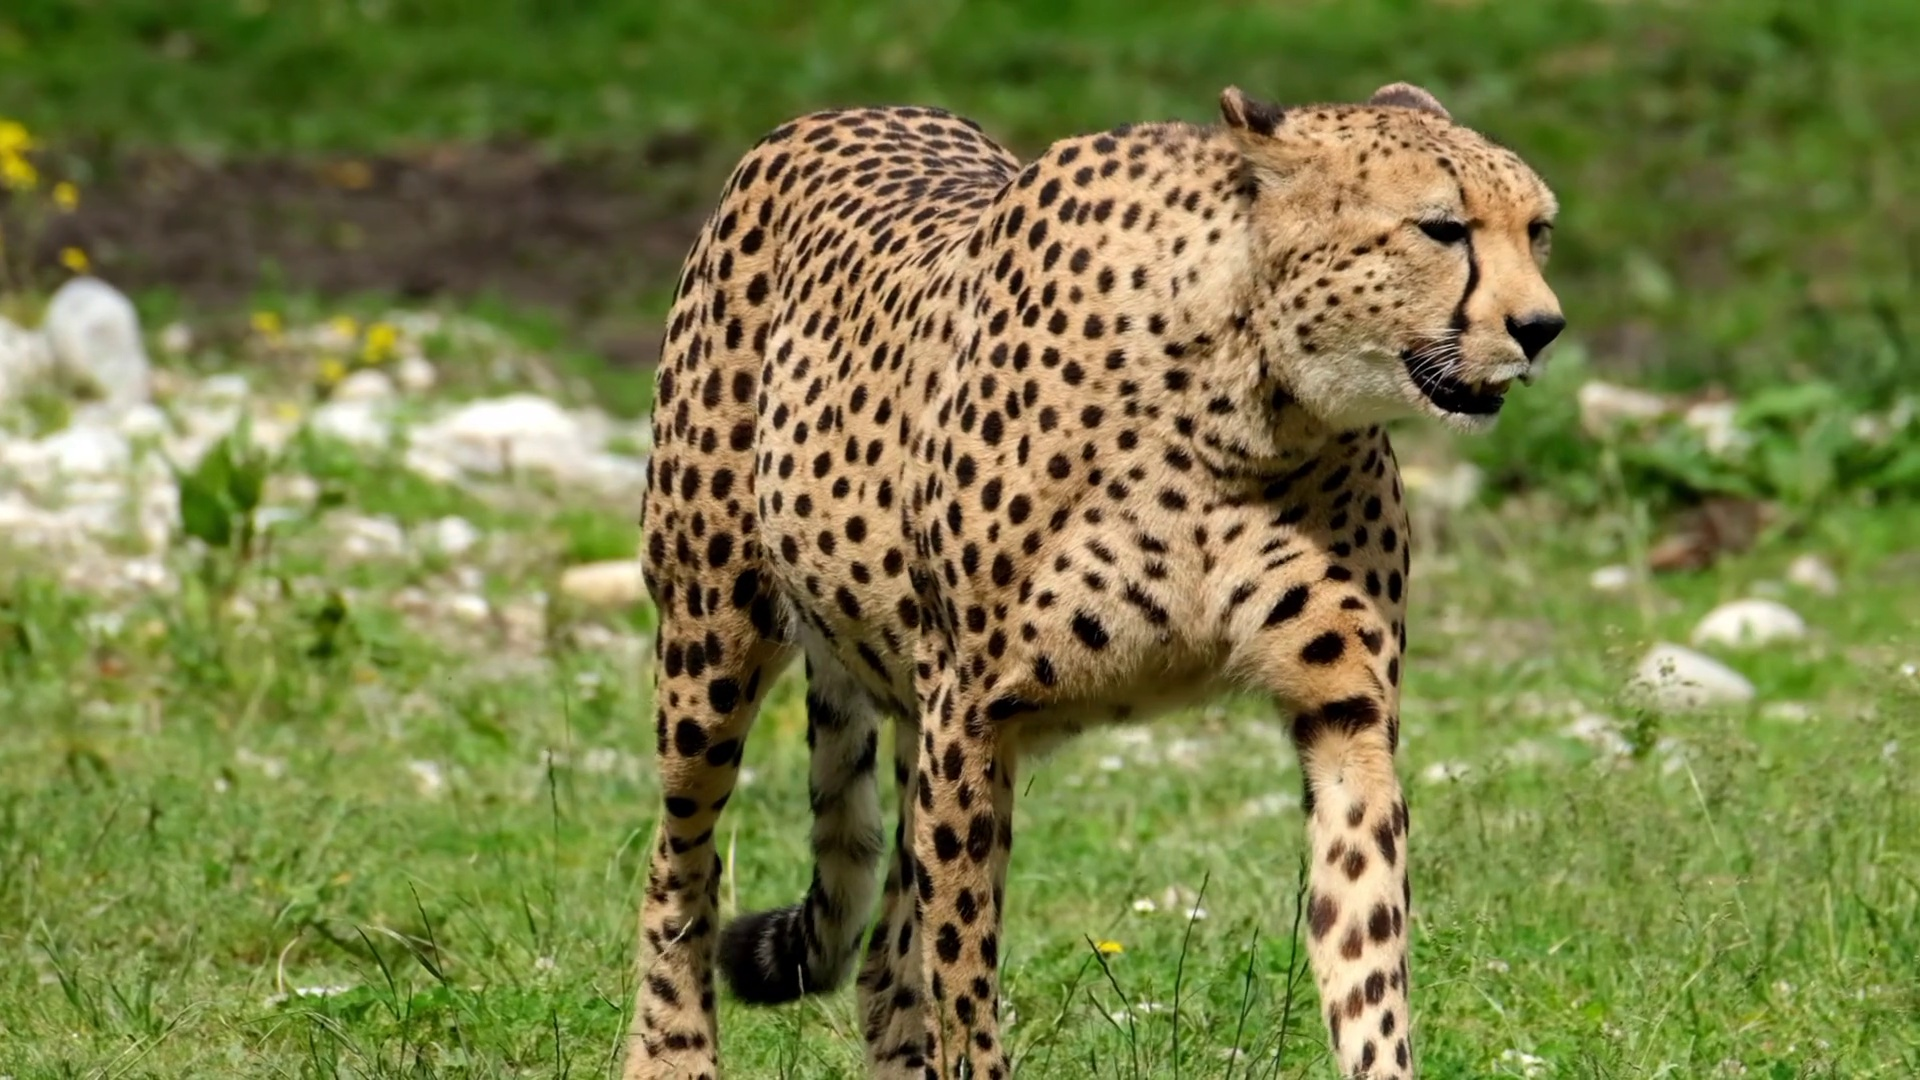Cheetah: (618, 74, 1572, 1080)
